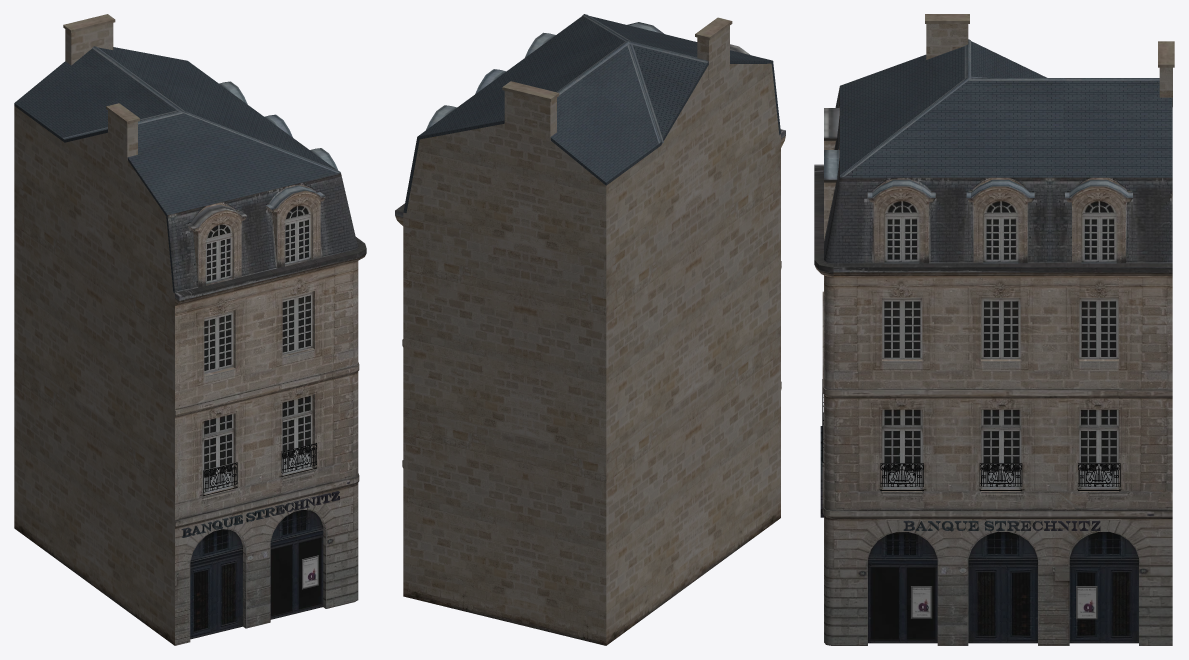
Rendered from immeuble_bordeaux_angle_banque.glb.
3 renders of one model, left to right at view 1: azimuth 30°, elevation 25°; view 2: azimuth 150°, elevation 25°; view 3: azimuth 270°, elevation 25°, orthographic. The views are drawn at different scales.
Parts seen in each view (by area): view 1: immeuble_bordeaux_angle_banque; view 2: immeuble_bordeaux_angle_banque; view 3: immeuble_bordeaux_angle_banque.
Part boxes in pixels (bbox=[...]): immeuble_bordeaux_angle_banque: bbox=[14, 14, 366, 645]; immeuble_bordeaux_angle_banque: bbox=[395, 14, 785, 645]; immeuble_bordeaux_angle_banque: bbox=[814, 14, 1174, 645].
Size of the model in its own units: 7.72 by 18.38 by 11.27.
Materials: 1 (1 with a texture image).
